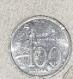coin_100_e1999: (8, 14, 73, 79)
